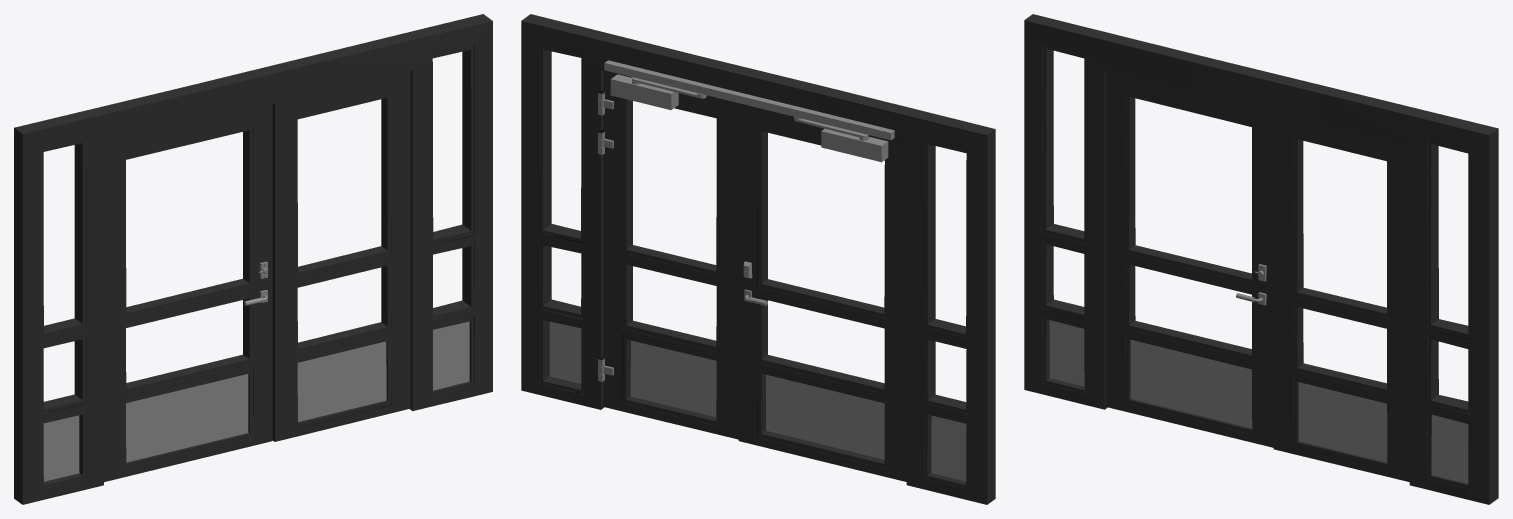
The model's file is MetalDoor2.fbx.
The picture shows the model from 3 angles, left to right: view 1: azimuth 30°, elevation 25°; view 2: azimuth 150°, elevation 25°; view 3: azimuth 330°, elevation 25°; orthographic projection.
Visible parts, largest first — view 1: MetalDoor2.001; view 2: MetalDoor2.001; view 3: MetalDoor2.001.
Part boxes in pixels (left/top/right/bottom): MetalDoor2.001: left=14, top=14, right=492, bottom=504; MetalDoor2.001: left=521, top=14, right=995, bottom=504; MetalDoor2.001: left=1024, top=14, right=1498, bottom=504.
Bounding box in the file's own units: 297 × 225 × 21.54.
1 material, 1 textured.
